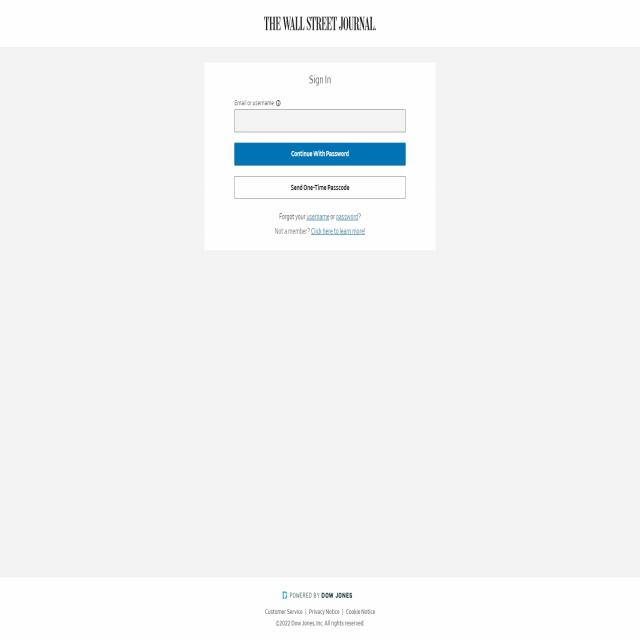menu-bar: (263, 603, 379, 618)
